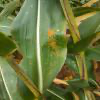Corn rust leaf: (11, 1, 70, 98)
